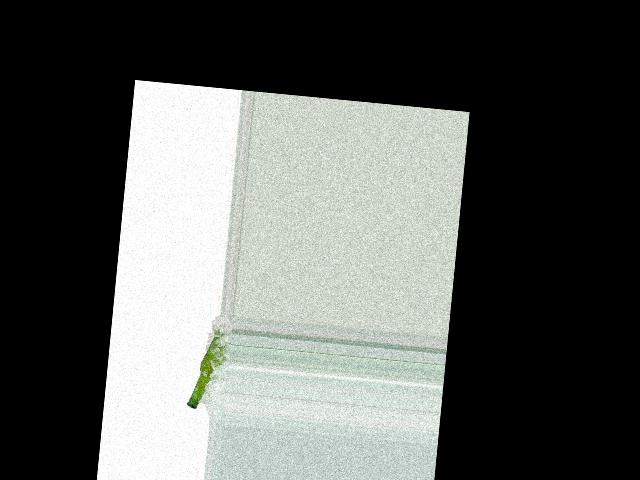beer: (187, 329, 222, 412)
